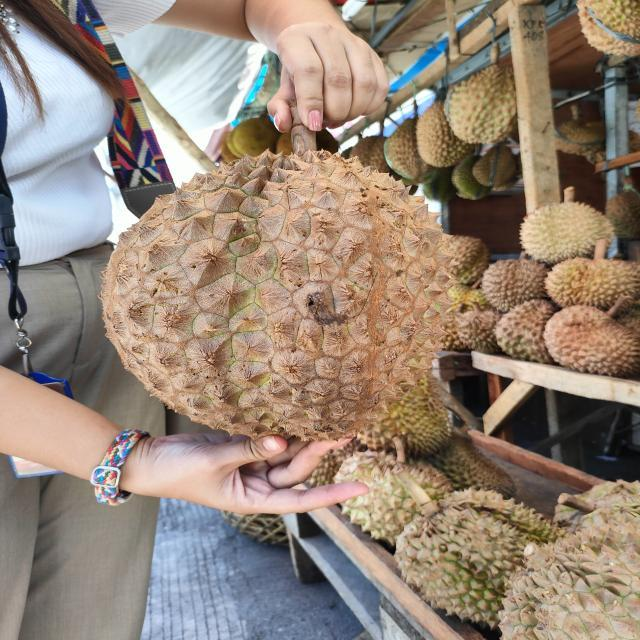mature: (98, 147, 456, 441)
